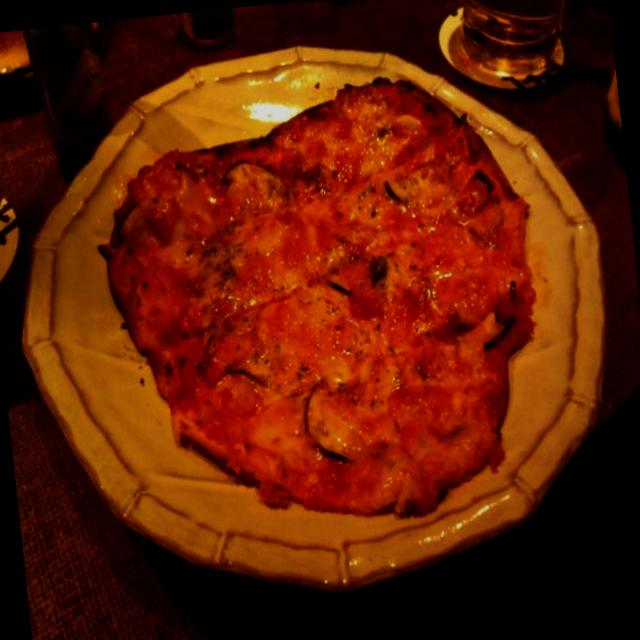Pizza: (101, 79, 568, 560)
